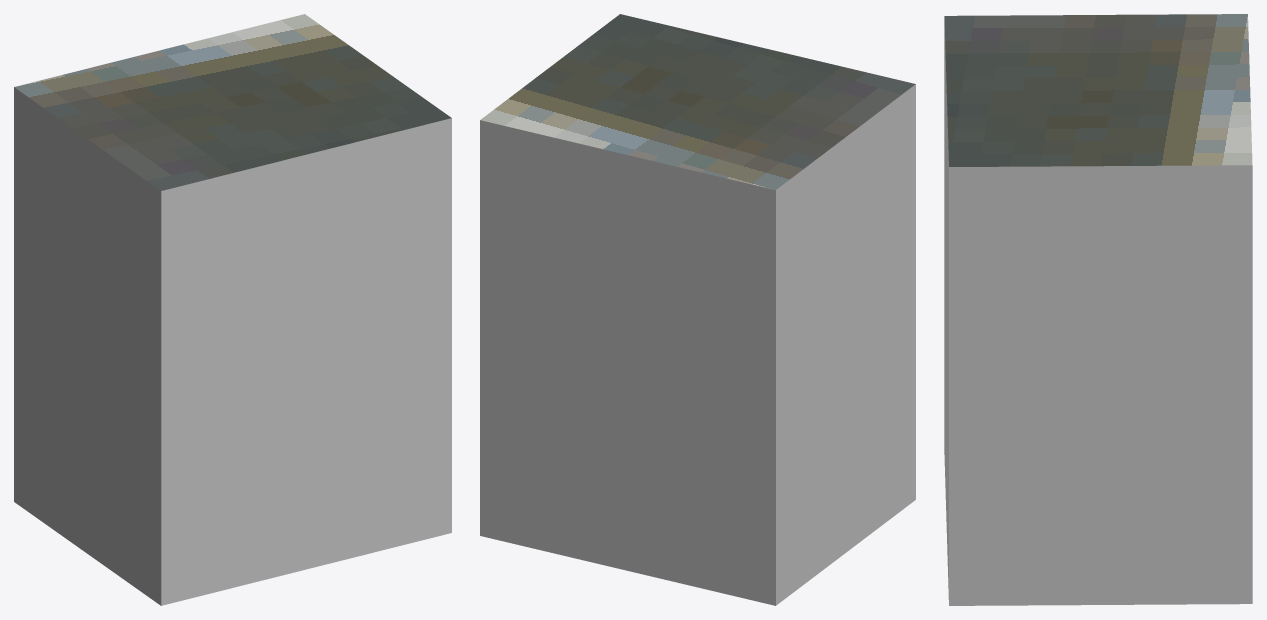
The model's file is DEBW_001000oSgUz.gltf.
3 views of the same model, side by side, from view 1: azimuth 30°, elevation 25°; view 2: azimuth 150°, elevation 25°; view 3: azimuth 270°, elevation 25° (orthographic). The views are drawn at different scales.
Parts seen in each view (by area): view 1: Z_UP; view 2: Z_UP; view 3: Z_UP.
Part boxes in pixels (bbox=[...]): Z_UP: bbox=[14, 14, 451, 605]; Z_UP: bbox=[480, 14, 915, 605]; Z_UP: bbox=[944, 14, 1252, 605].
Size of the model in its own units: 2.4 by 3.21 by 2.04.
2 materials, 1 textured.
